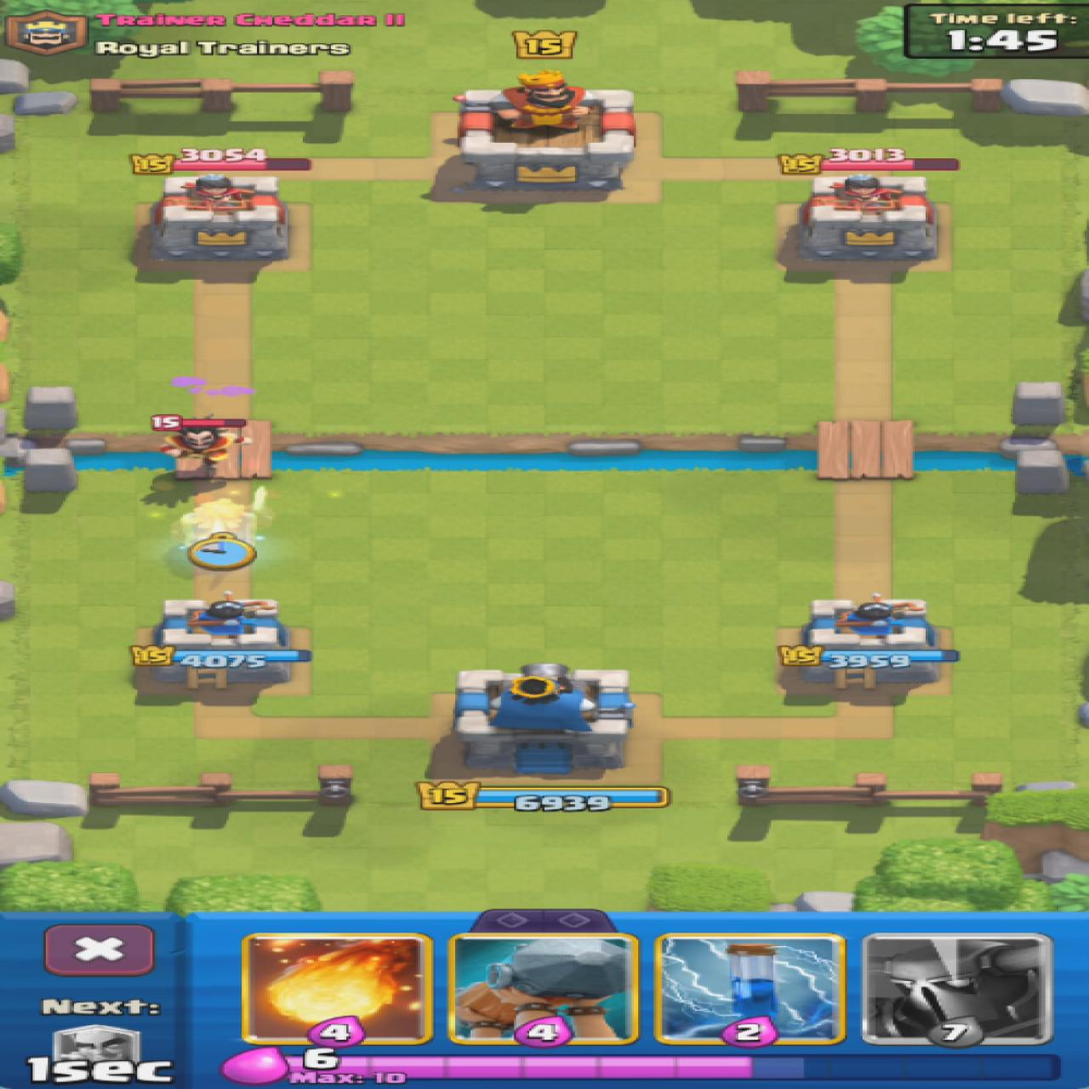Enemy-ElectroWizard: (161, 421, 248, 468)
Enemy-KingTower: (457, 72, 634, 192)
Enemy-PrincessTower: (150, 174, 287, 260), (799, 174, 934, 261)
